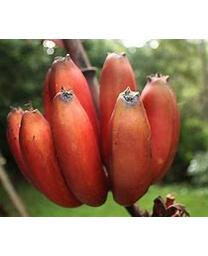banana: (5, 54, 182, 206)
